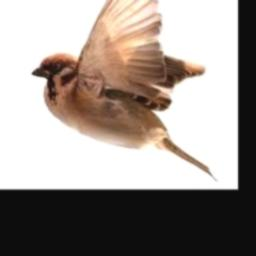Sparrow: (32, 0, 219, 181)
